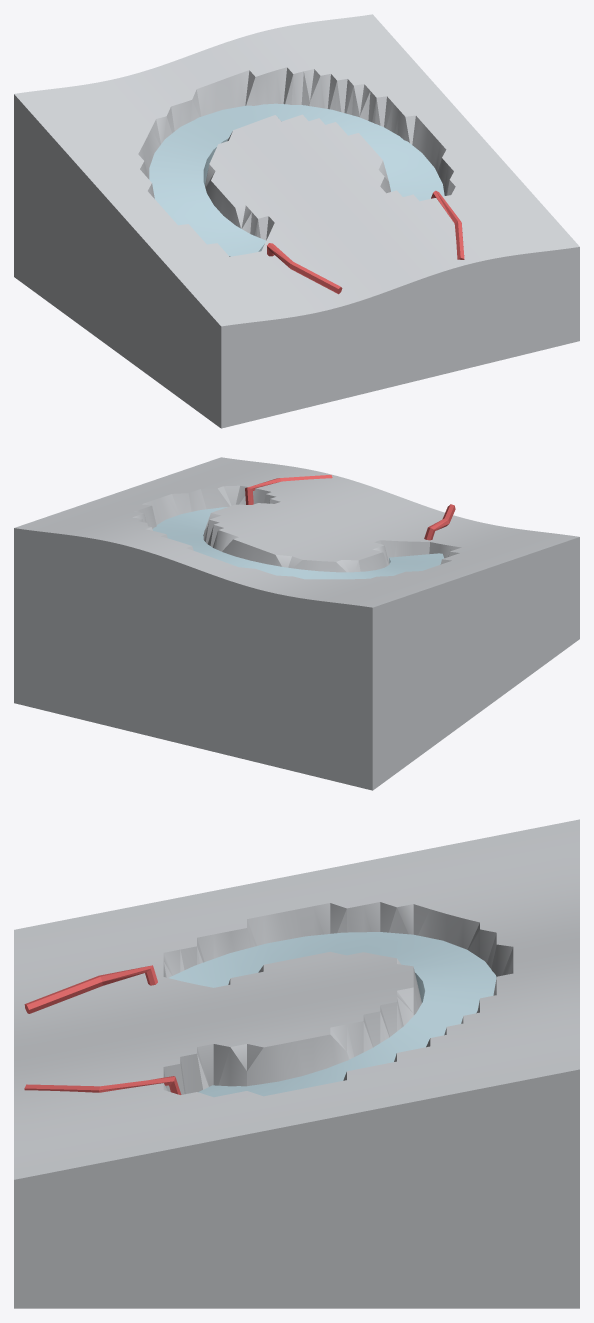
The model's file is mountaineering-and-summit-expedition-snow-bollard-d3752b01__18807.glb.
3 renders of one model, top to bottom at view 1: azimuth 30°, elevation 25°; view 2: azimuth 150°, elevation 25°; view 3: azimuth 270°, elevation 25°, orthographic. The views are drawn at different scales.
Visible parts, largest first — view 1: snow-bollard; view 2: snow-bollard; view 3: snow-bollard.
Boxes of the visible parts, left/top/right/bottom form: snow-bollard: left=14, top=14, right=579, bottom=428; snow-bollard: left=14, top=457, right=579, bottom=790; snow-bollard: left=14, top=819, right=579, bottom=1308.
Bounding box in the file's own units: 1.3 × 0.6399 × 1.3.
